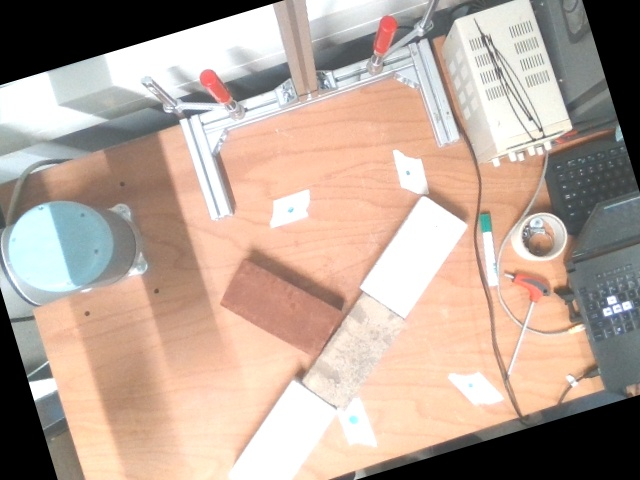brick: (365, 201, 462, 313), (306, 297, 399, 405), (227, 264, 337, 355), (233, 387, 331, 479)
